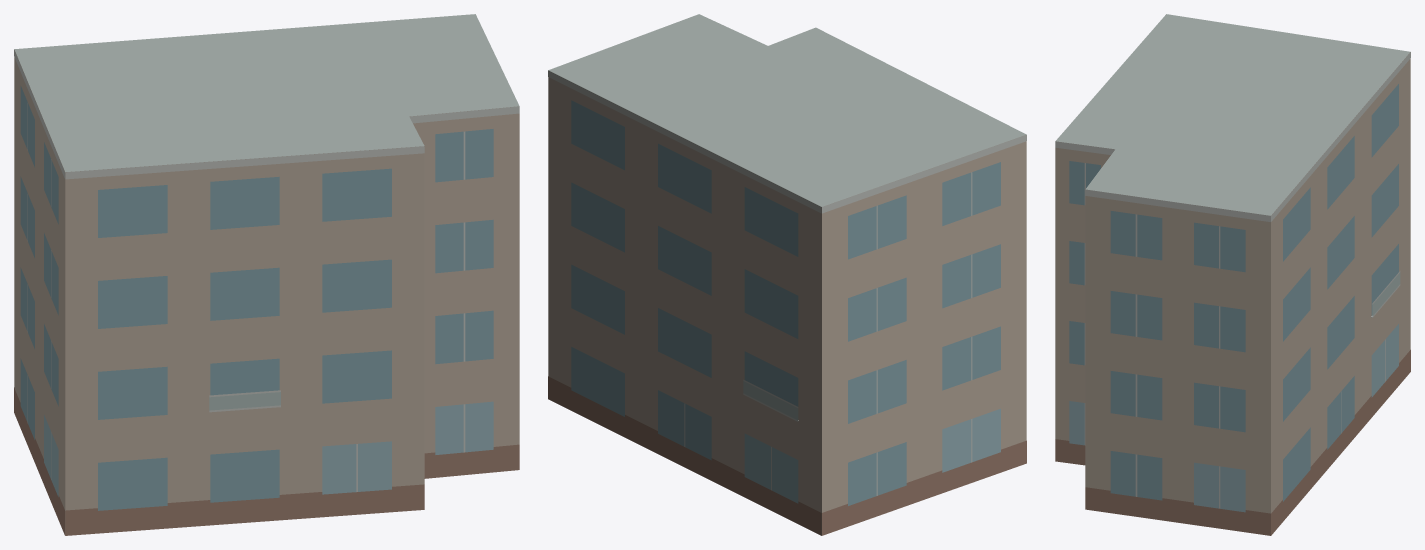
Rendered from survey-upis-32711176.glb.
3 renders of one model, left to right at view 1: azimuth 30°, elevation 25°; view 2: azimuth 150°, elevation 25°; view 3: azimuth 270°, elevation 25°, orthographic. The views are drawn at different scales.
Visible parts, largest first — view 1: survey-upis-32711176.tmp; view 2: survey-upis-32711176.tmp; view 3: survey-upis-32711176.tmp.
Part boxes in pixels (x1=…): survey-upis-32711176.tmp: x1=14, y1=14, x2=519, y2=535; survey-upis-32711176.tmp: x1=548, y1=14, x2=1026, y2=535; survey-upis-32711176.tmp: x1=1055, y1=14, x2=1410, y2=535.
Bounding box in the file's own units: 16.51 × 12.2 × 12.29.
